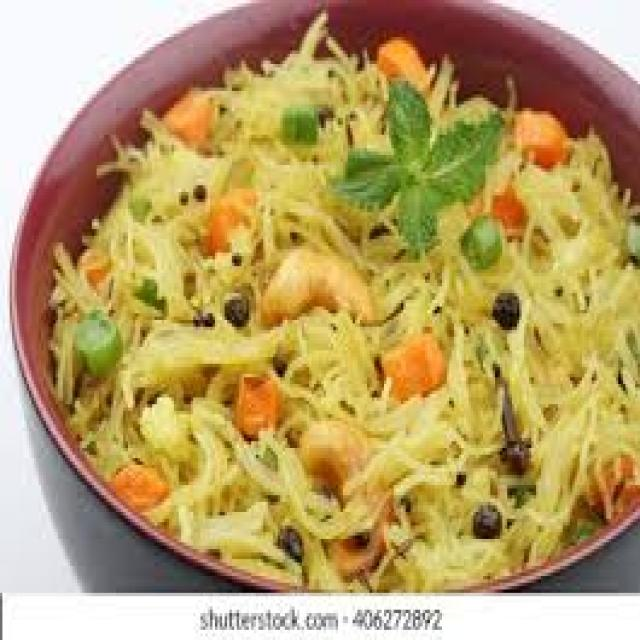POHA: (39, 17, 638, 583)
